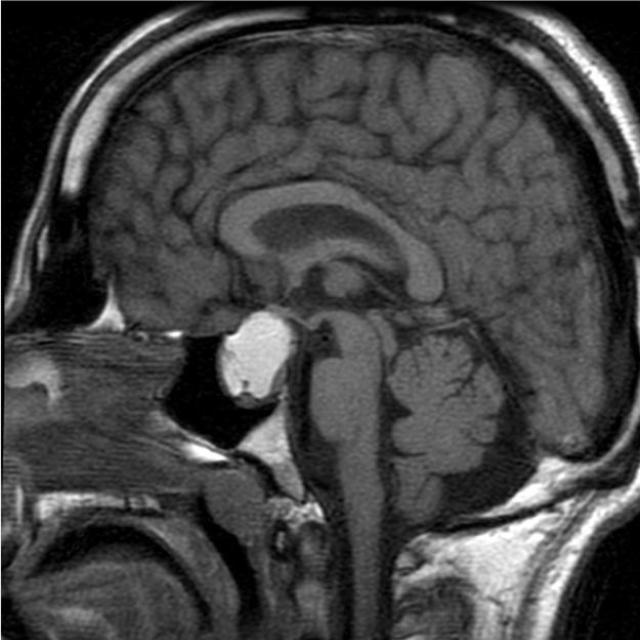brain_tumor: (216, 311, 298, 407)
